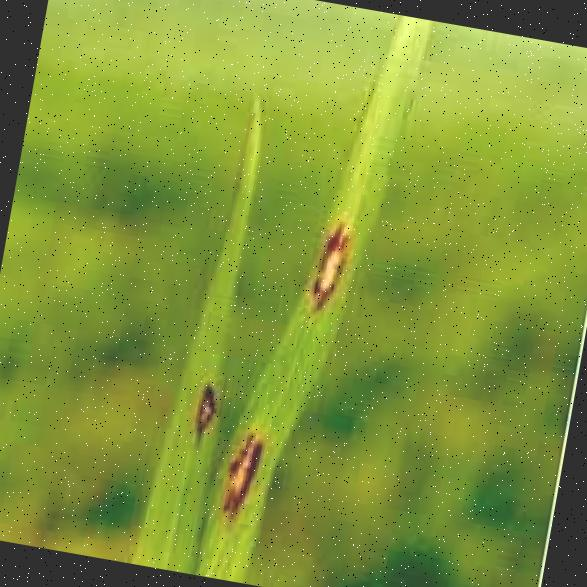Leaf_smut: (200, 408, 296, 512), (298, 200, 350, 304), (179, 358, 232, 436)
